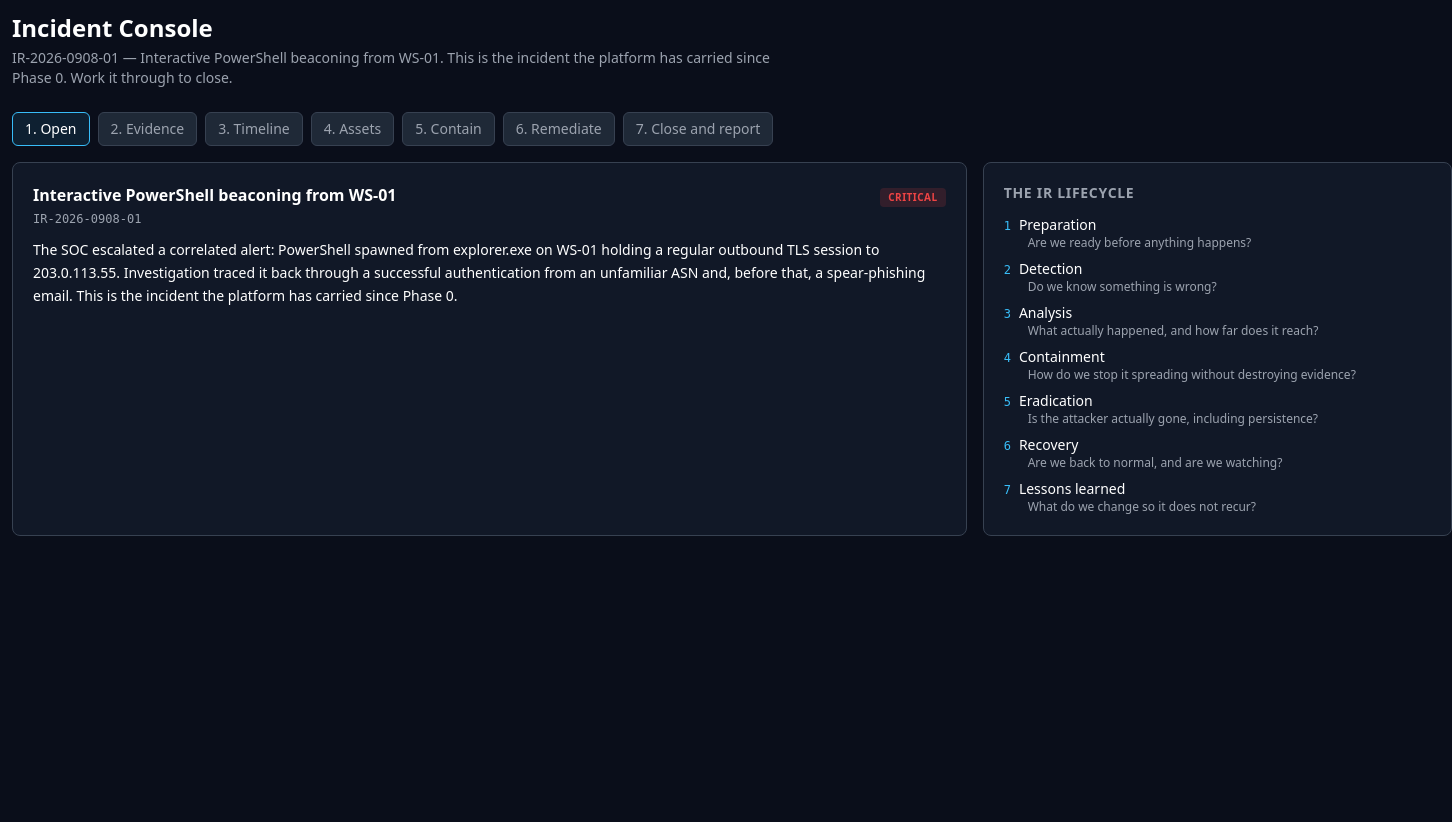
Test case: Incident Console › shows the volatility ordering on the evidence step
Step 1. Click the button "2. Evidence" → click(147, 129), box x1=98 y1=112 x2=197 y2=146
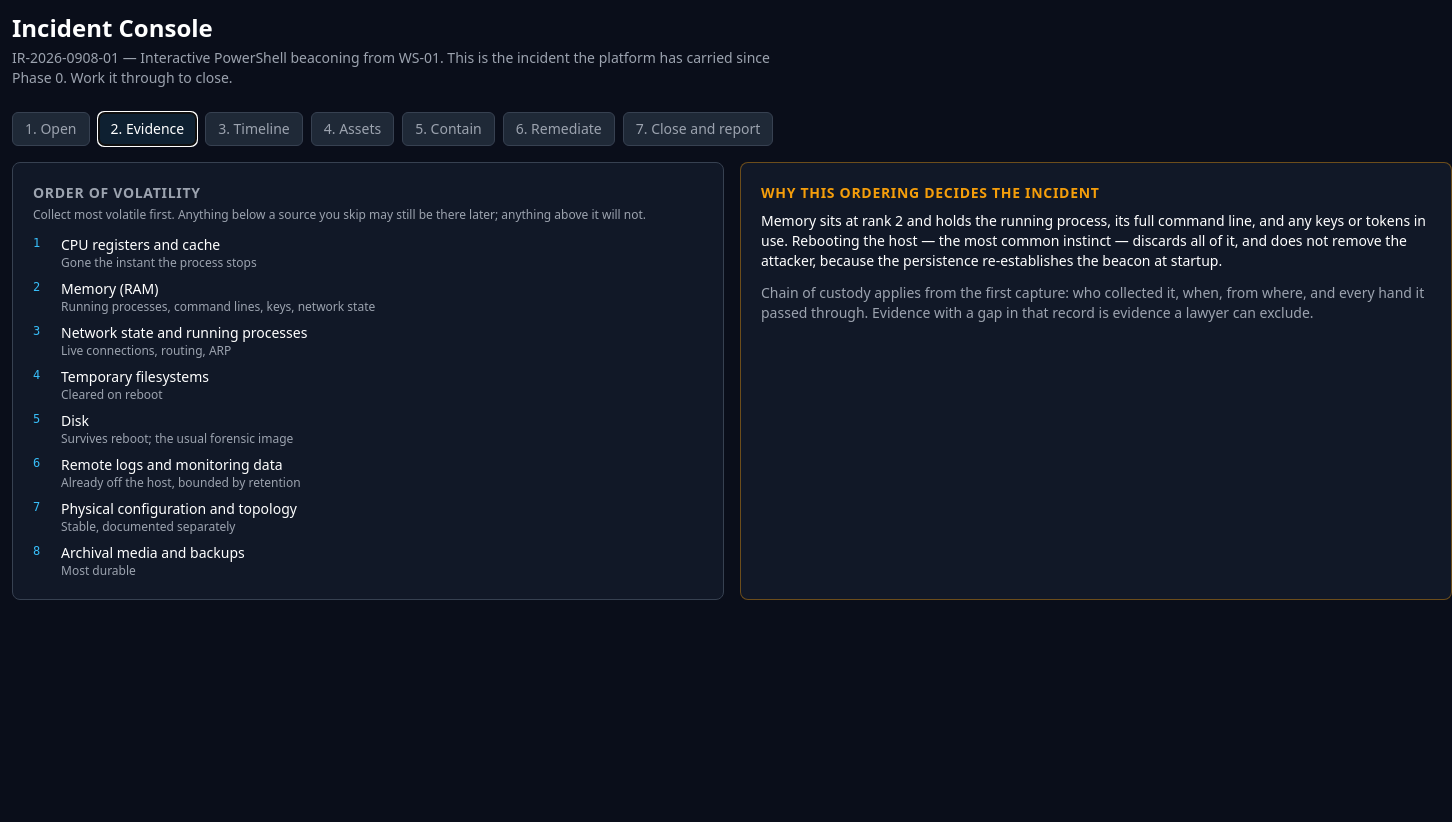
Now the number of list items is 8
Now the text "Memory (RAM)" is shown, box x1=61 y1=279 x2=158 y2=298
